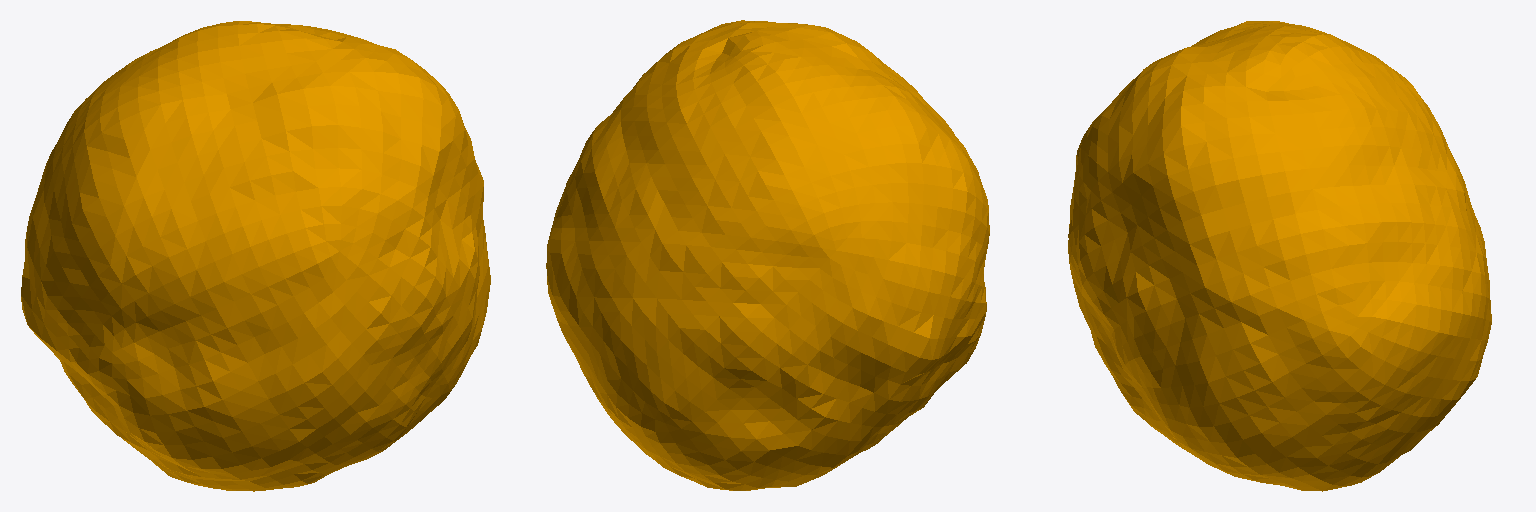
The robot description file, URDF, robot "rock":
<?xml version="1.0" ?>
<robot name="rock">
  <link name="rock">
    <inertial>
      <mass value="0.25"/>
      <origin rpy="0 0 0" xyz="0 0 0"/>
      <inertia ixx="0.00025" ixy="0" ixz="0" iyy="0.00025" iyz="0" izz="0.00025"/>
    </inertial>
    <collision name="rock_collision">
      <origin rpy="0 0 0" xyz="0 0 0"/>
      <geometry>
        <mesh filename="package://rocks/collision/43.stl" scale="1 1 1"/>
      </geometry>
    </collision>
    <visual name="rock_visual">
      <origin rpy="0 0 0" xyz="0 0 0"/>
      <geometry>
        <mesh filename="package://rocks/visual/43.dae" scale="1 1 1"/>
      </geometry>
    </visual>
  </link>
</robot>

--- Render facts (derived) ---
Views: 3 orthographic renders of the robot side by side, from view 1: azimuth 30°, elevation 25°; view 2: azimuth 150°, elevation 25°; view 3: azimuth 270°, elevation 25°.
Robot: rock — 1 links, 0 joints (none); root link rock; default pose: all joints at 0.
Links seen in each view (by area): view 1: rock; view 2: rock; view 3: rock.
Link boxes in pixels (bbox=[...]): rock: bbox=[21, 21, 490, 491]; rock: bbox=[546, 20, 989, 490]; rock: bbox=[1068, 21, 1491, 491].
Bounding box of the posed robot: 0.0672 × 0.0632 × 0.069 m (x, y, z).
Meshes: 1 distinct files referenced, 1 mesh visuals loaded (1 Collada DAE).